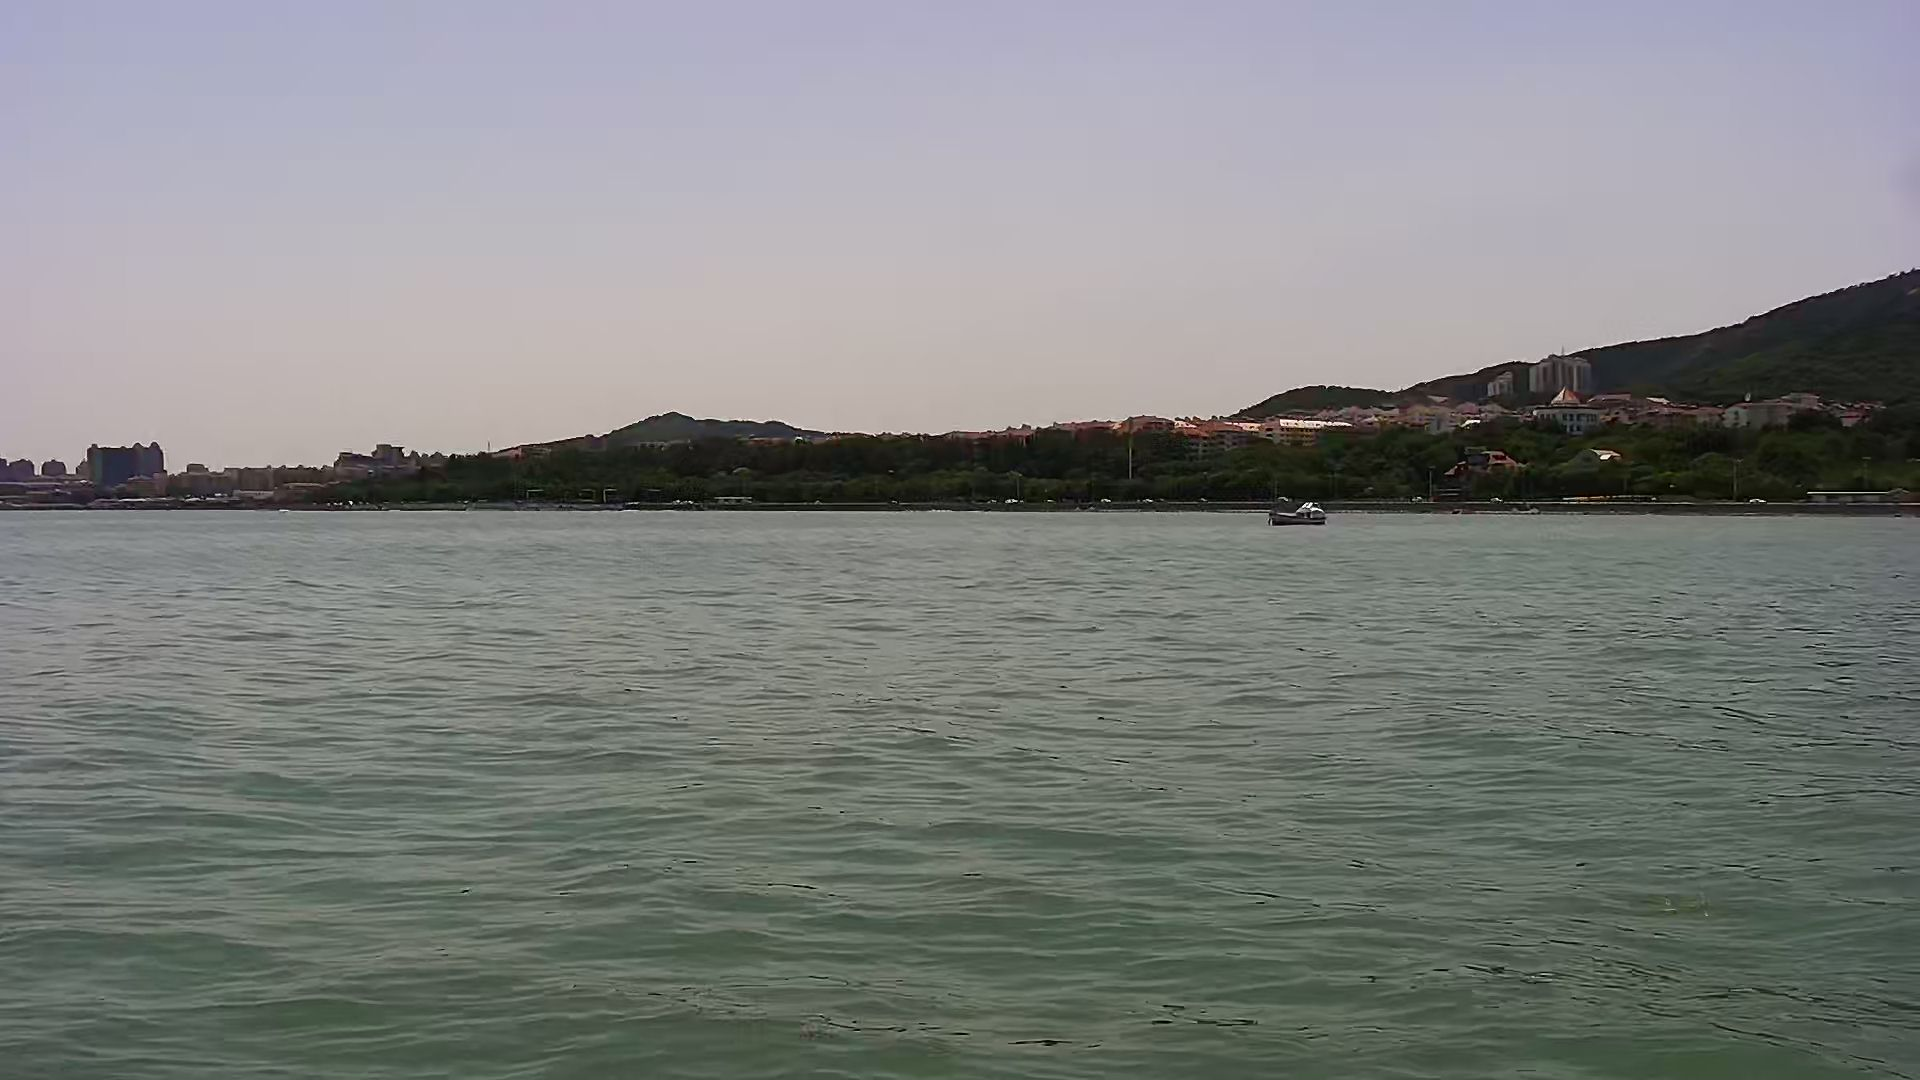ship: (1270, 500, 1335, 531)
